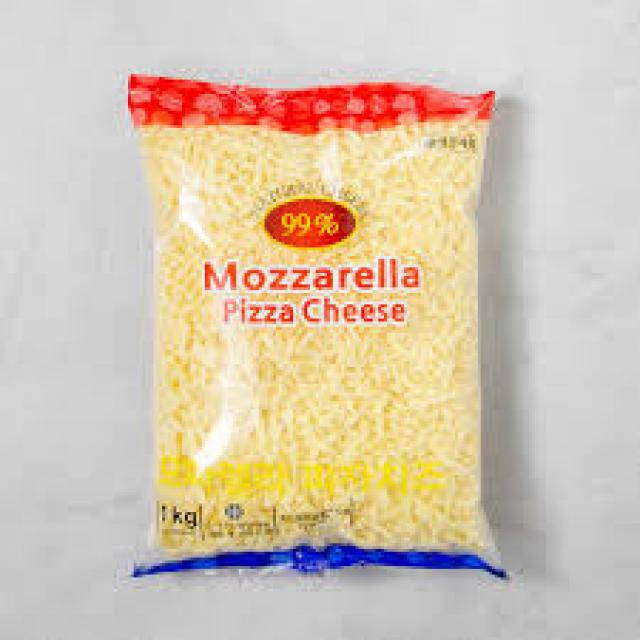Cheese: (128, 71, 506, 569)
